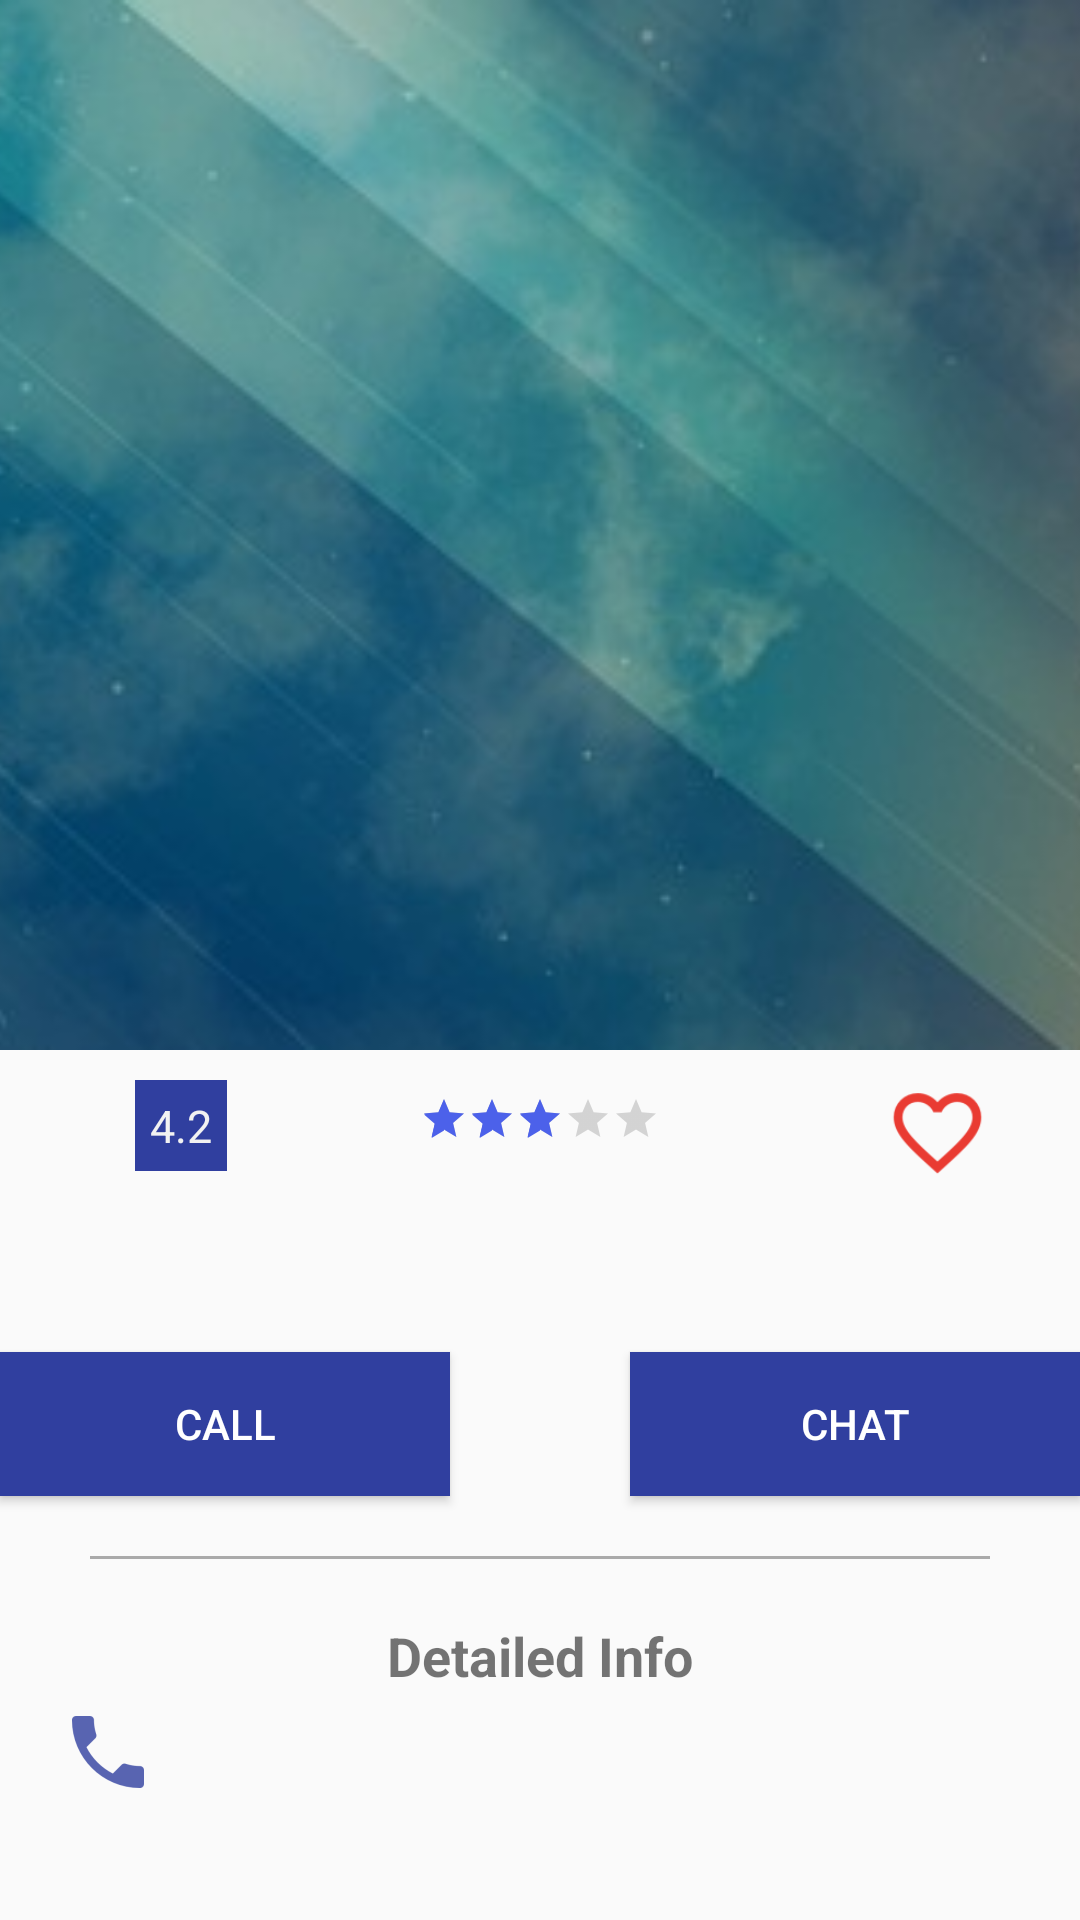

Where icons sit on this 1080 × 1920 app screen, as bbox=[x1, y1, x2, y2]:
favorite on: bbox=[893, 1093, 982, 1174]
phone: bbox=[72, 1716, 144, 1788]
